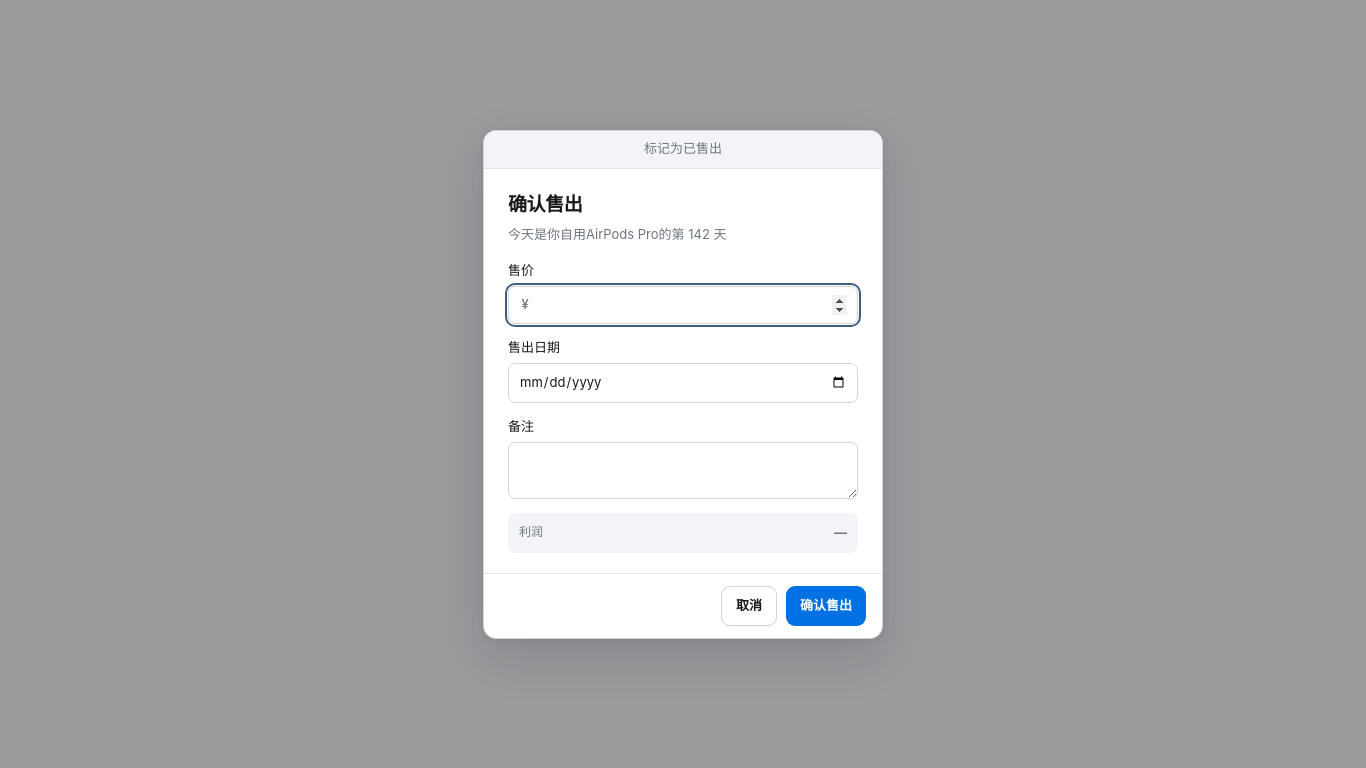
it: SaleConfirmDialog › keeps its values and shows a save error when confirmation rejects
Type "1450" into the number field labelled "售价" at [693, 305], box [539, 287, 847, 322]
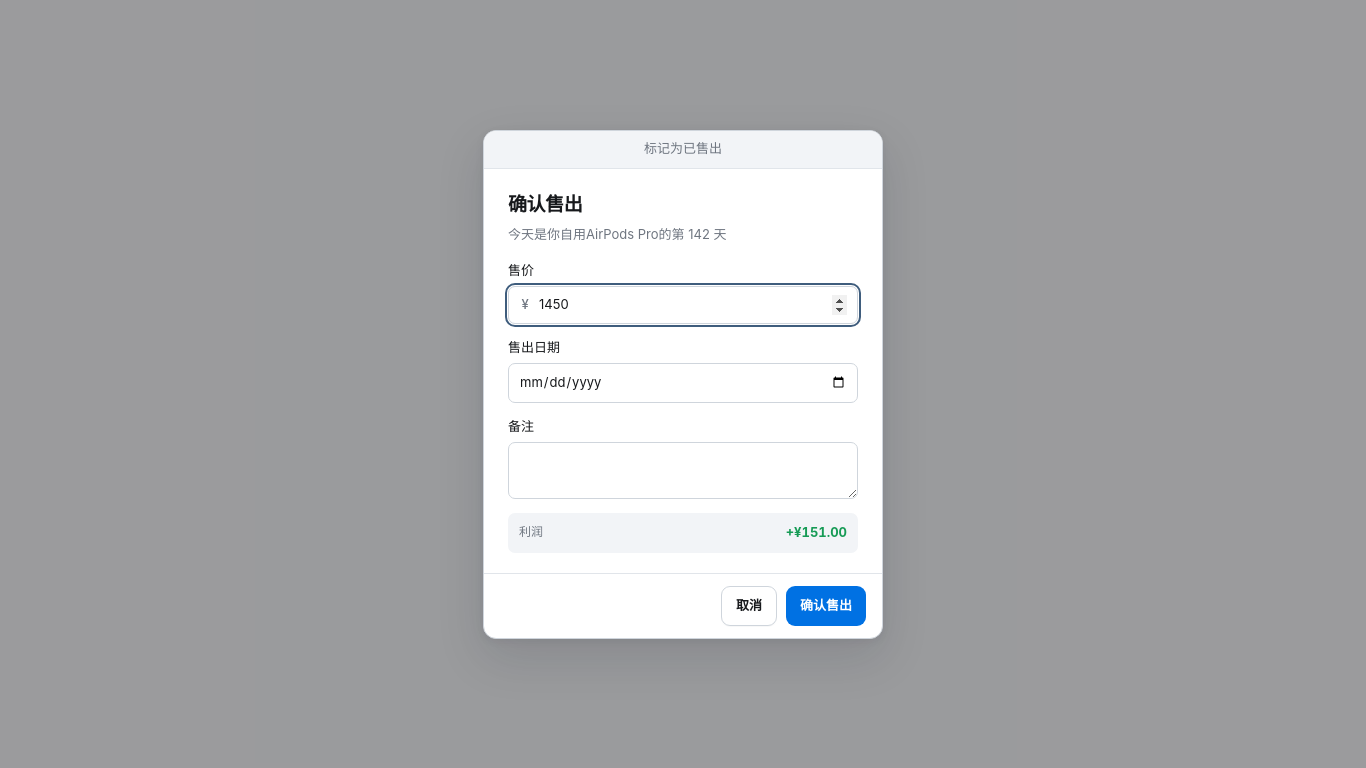
Type "面交" into the text box labelled "备注" at [683, 470], box [508, 442, 858, 499]
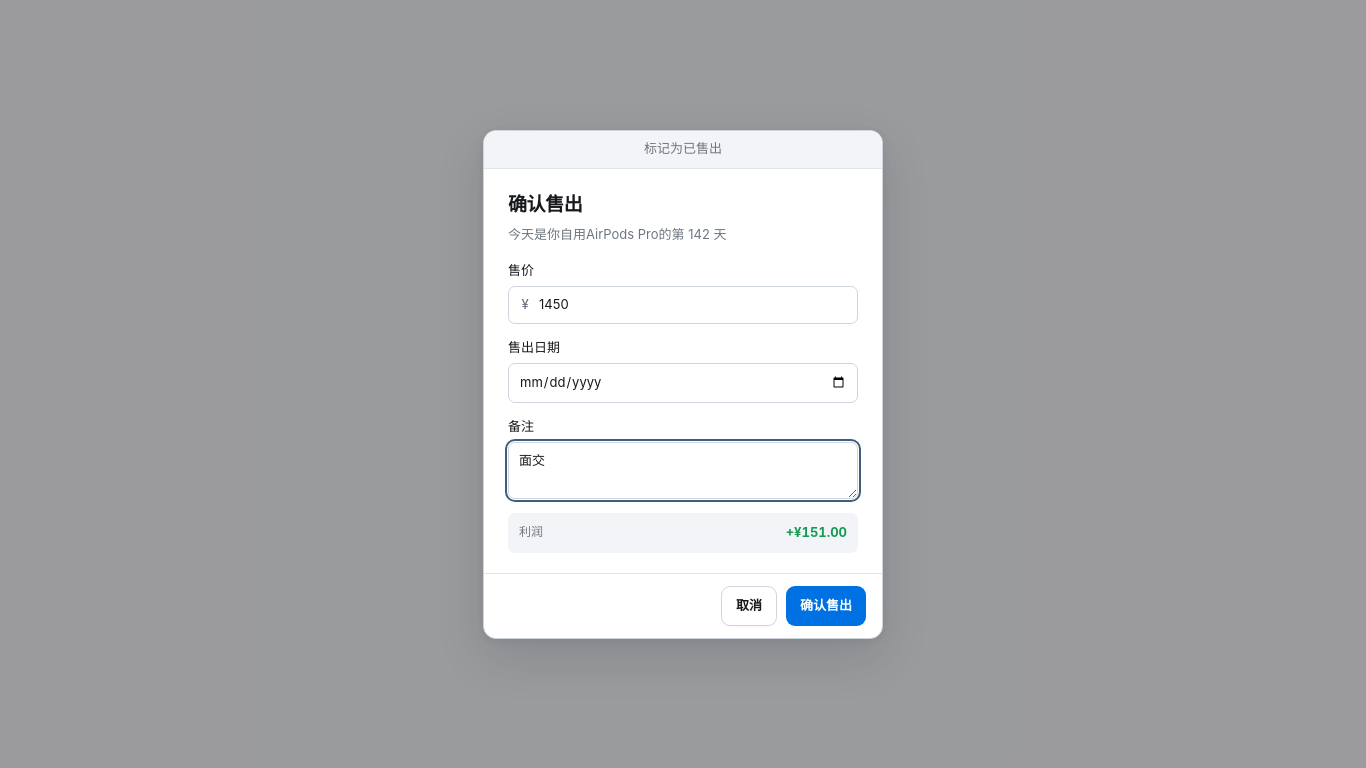
Click the button "确认售出" at [826, 606], box [786, 586, 866, 626]
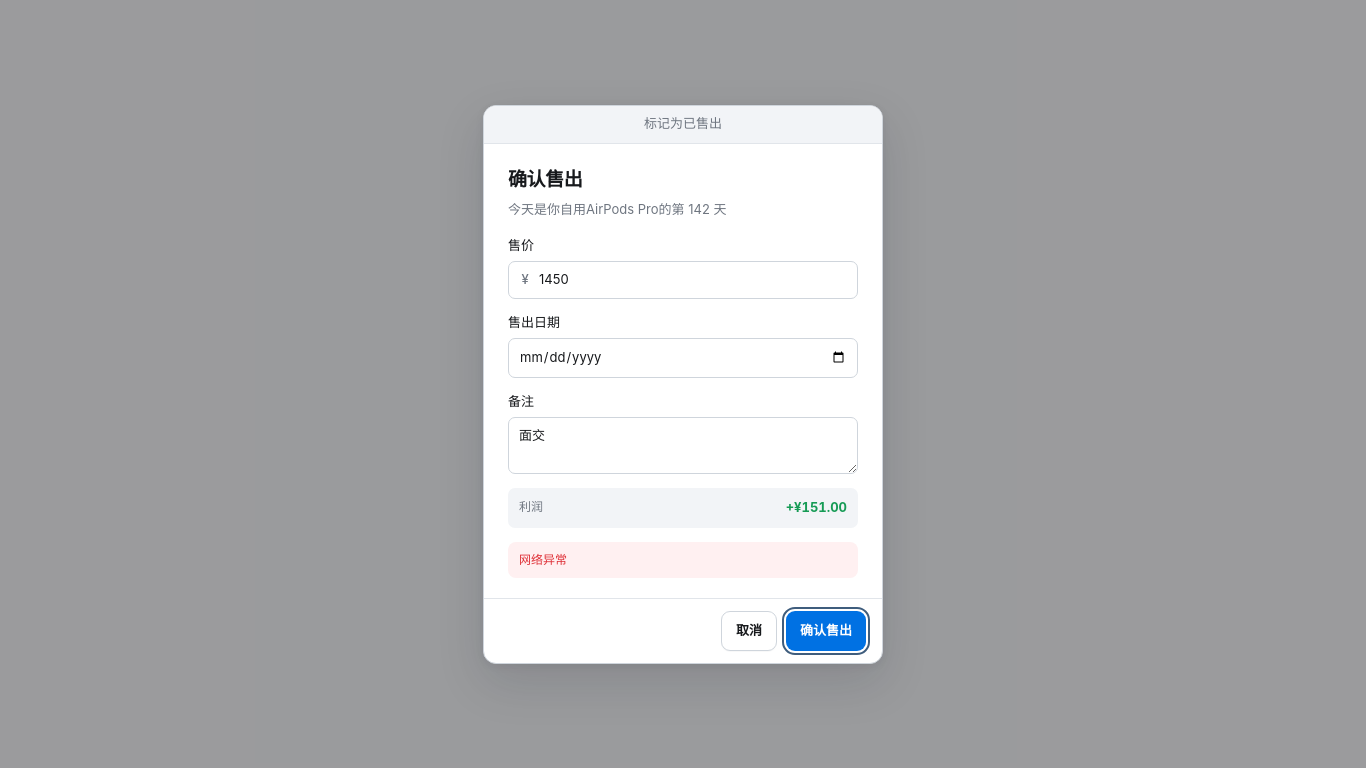
Expected: the message reads "网络异常", [519, 552, 567, 566]
